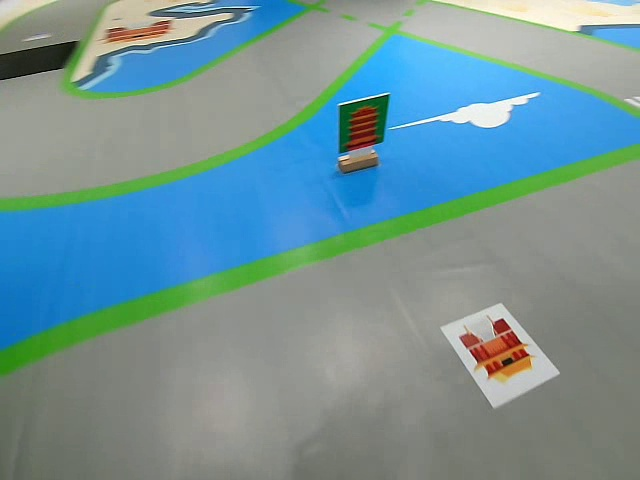dengGaoZuoFu: (436, 297, 569, 410)
huangHeGe: (339, 92, 389, 154)
